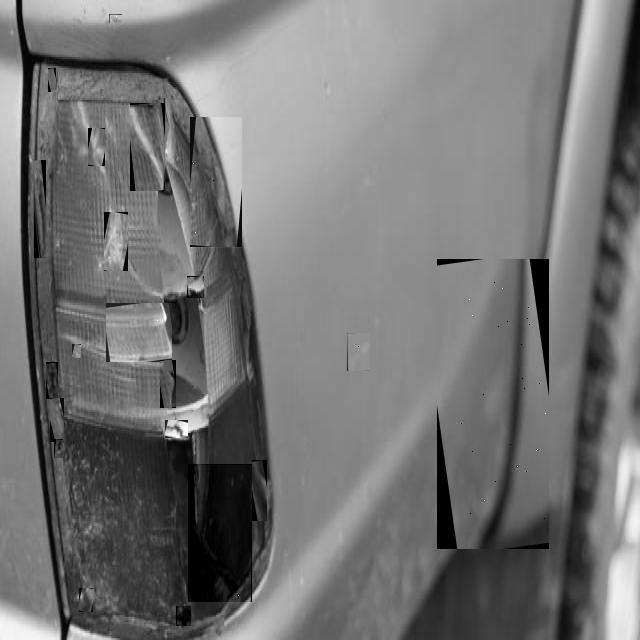Dent: (437, 259, 549, 549), (188, 464, 252, 602), (190, 118, 242, 250), (106, 303, 172, 362), (130, 103, 165, 191), (104, 212, 128, 271), (34, 160, 46, 258), (252, 460, 267, 521), (347, 333, 370, 371), (160, 360, 176, 408), (88, 128, 105, 166), (50, 398, 64, 442), (46, 362, 58, 399), (165, 421, 188, 438), (187, 276, 204, 298), (79, 588, 93, 612), (176, 606, 191, 626), (48, 68, 56, 92), (54, 439, 63, 458), (72, 344, 81, 358), (109, 14, 122, 23), (132, 353, 141, 362)
